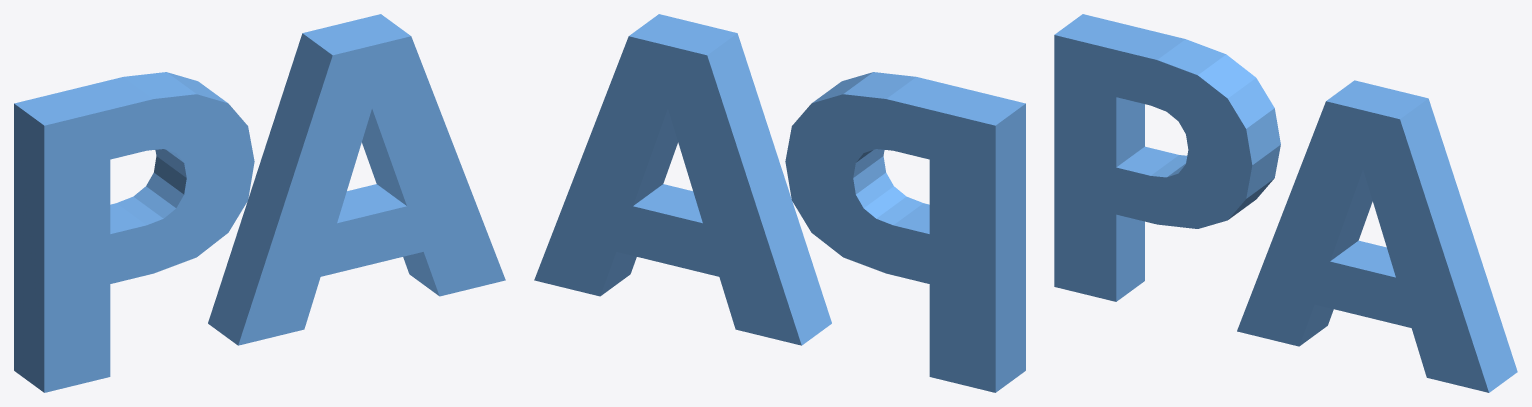
Rendered from suku_besar_pa.glb.
The picture shows the model from 3 angles, left to right: view 1: azimuth 30°, elevation 25°; view 2: azimuth 150°, elevation 25°; view 3: azimuth 330°, elevation 25°; orthographic projection. The views are drawn at different scales.
Visible parts, largest first — view 1: geometry_0; view 2: geometry_0; view 3: geometry_0.
Boxes of the visible parts, <box> form: geometry_0: <box>14,14,505,392</box>; geometry_0: <box>534,14,1025,392</box>; geometry_0: <box>1054,14,1517,392</box>.
Bounding box in the file's own units: 13.17 × 7.29 × 1.5.
